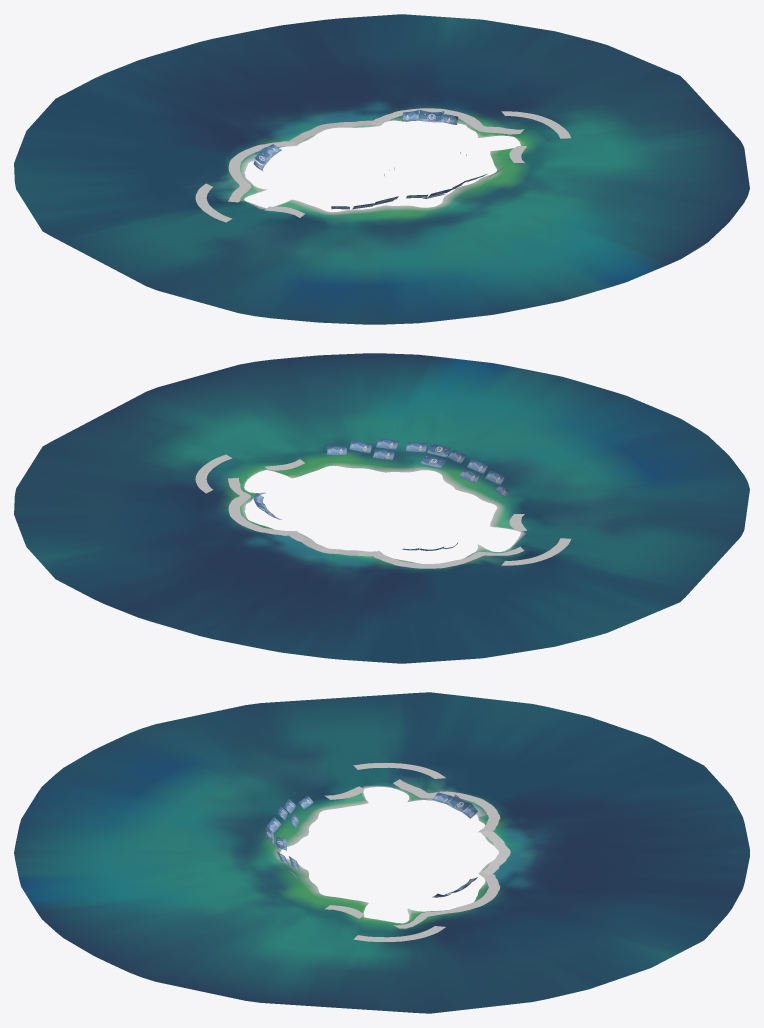
The model's file is pref_Winter_VFX_Water_beta_01.fbx.
3 views of the same model, one above another, from view 1: azimuth 30°, elevation 25°; view 2: azimuth 150°, elevation 25°; view 3: azimuth 270°, elevation 25° (orthographic). The views are drawn at different scales.
Visible parts, largest first — view 1: pref_sm_beach_tech_hunt_003_sea01_lv3, pref_sm_beach_winter_tech_hunt_003_sealine_lv3, pref_sm_beach_winter_flag03_lv3; view 2: pref_sm_beach_tech_hunt_003_sea01_lv3, pref_sm_beach_winter_tech_hunt_003_sealine_lv3, pref_sm_beach_winter_flag04_lv3; view 3: pref_sm_beach_tech_hunt_003_sea01_lv3, pref_sm_beach_winter_tech_hunt_003_sealine_lv3, pref_sm_beach_winter_flag04_lv3, pref_sm_beach_winter_flag03_lv3.
Part boxes in pixels (x1,y1,x2,y2): pref_sm_beach_tech_hunt_003_sea01_lv3: (14, 14, 749, 324); pref_sm_beach_winter_tech_hunt_003_sealine_lv3: (195, 108, 570, 222); pref_sm_beach_winter_flag03_lv3: (253, 110, 458, 171); pref_sm_beach_tech_hunt_003_sea01_lv3: (14, 353, 749, 663); pref_sm_beach_winter_tech_hunt_003_sealine_lv3: (195, 454, 570, 568); pref_sm_beach_winter_flag04_lv3: (327, 438, 509, 497); pref_sm_beach_tech_hunt_003_sea01_lv3: (14, 692, 749, 1013); pref_sm_beach_winter_tech_hunt_003_sealine_lv3: (324, 763, 510, 941); pref_sm_beach_winter_flag04_lv3: (265, 795, 313, 887); pref_sm_beach_winter_flag03_lv3: (432, 792, 477, 897).
Bounding box in the file's own units: 397 × 28.4 × 384.
